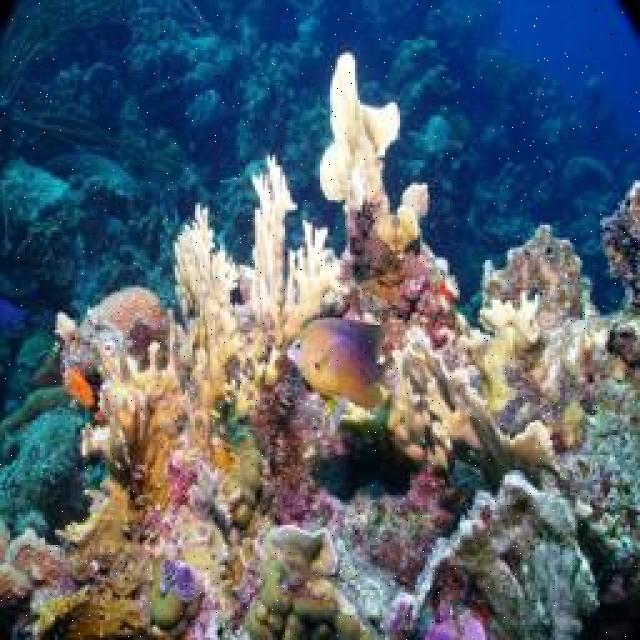fish: (284, 319, 399, 408)
reefs: (168, 157, 350, 442), (387, 326, 562, 494), (320, 50, 430, 278), (81, 343, 193, 517), (230, 549, 380, 638), (57, 286, 162, 404)
